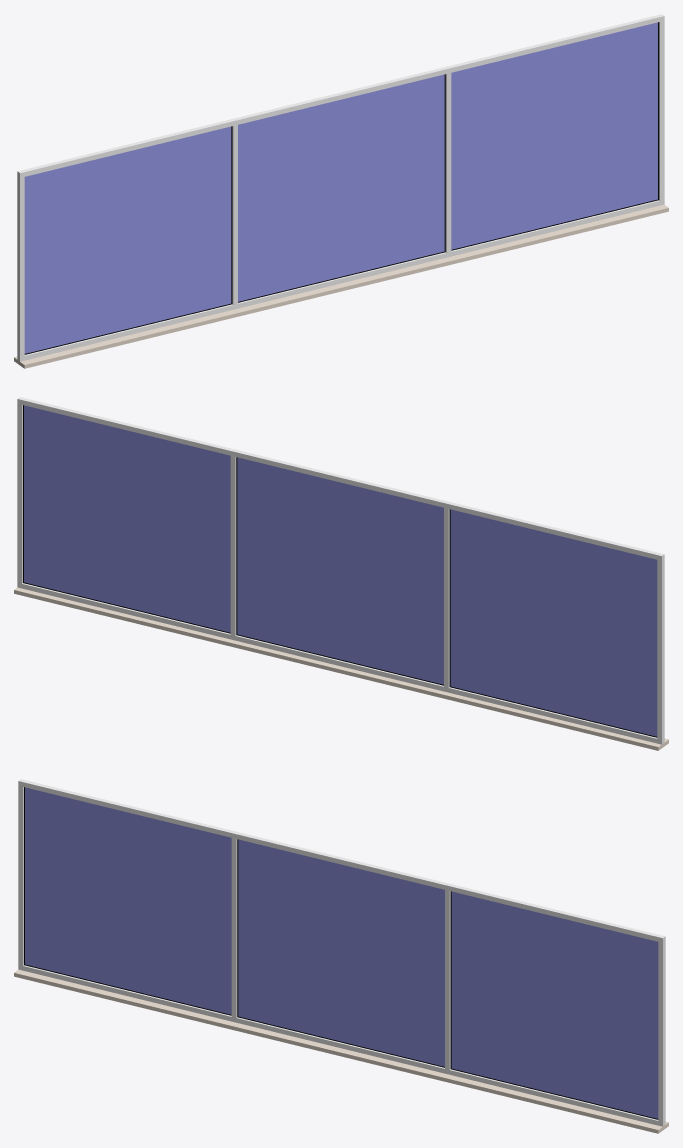
File: Janela2.fbx
3 views of the same model, one above another, from view 1: azimuth 30°, elevation 25°; view 2: azimuth 150°, elevation 25°; view 3: azimuth 330°, elevation 25° (orthographic).
Parts seen in each view (by area): view 1: Window; view 2: Window; view 3: Window.
Part boxes in pixels (bbox=[...]): Window: bbox=[14, 14, 668, 368]; Window: bbox=[14, 397, 668, 750]; Window: bbox=[14, 779, 668, 1133].
Bounding box in the file's own units: 705 × 201 × 20.
